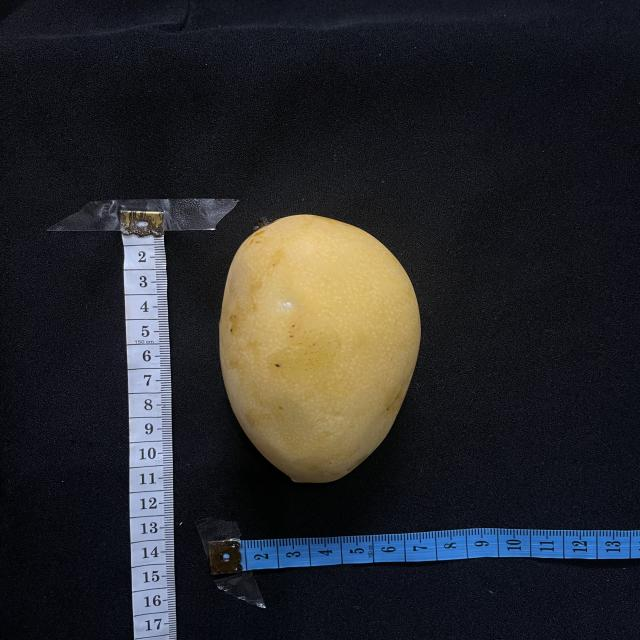Ripe: (219, 215, 421, 483)
